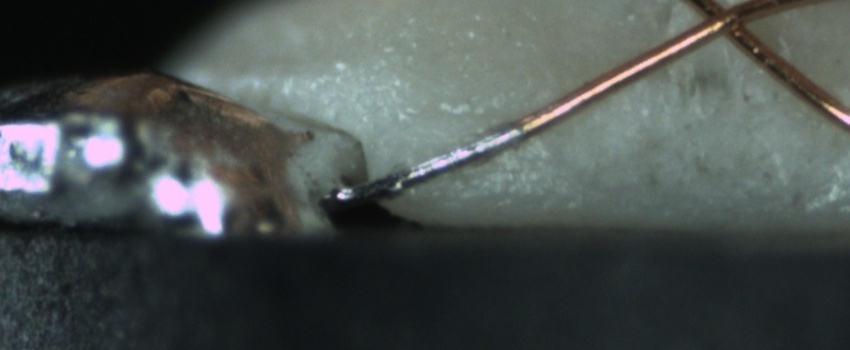CL: (683, 1, 761, 48)
DL: (384, 96, 531, 143)
TS: (331, 120, 521, 204)
